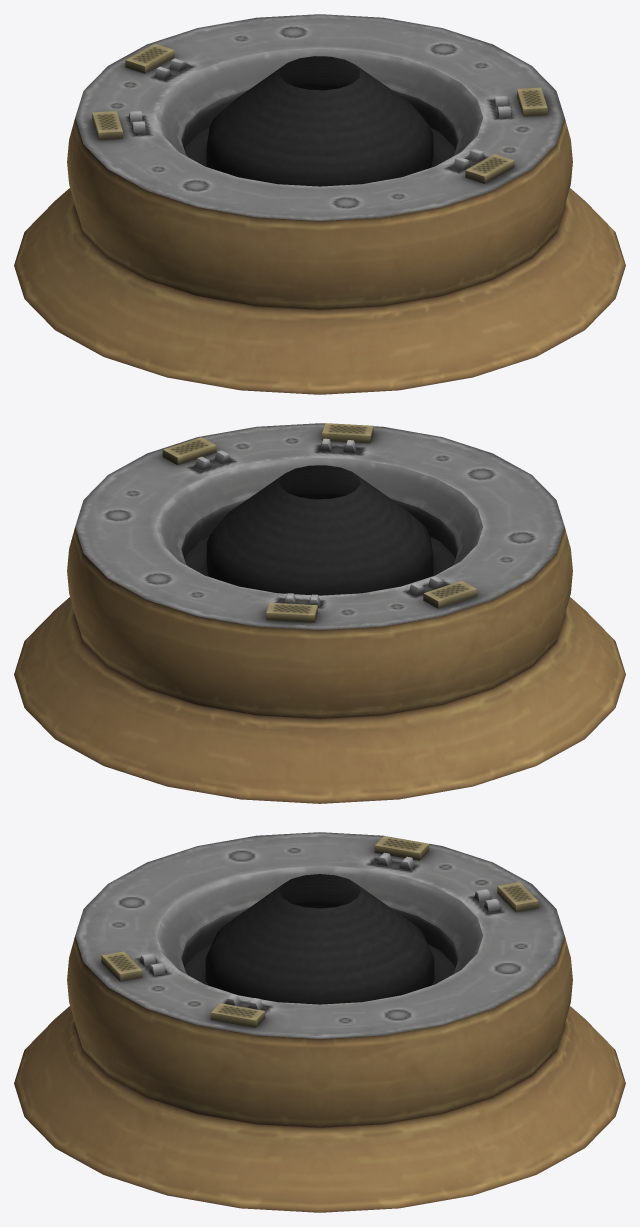
Rendered from octans_docking_port_s0p5_1_male.obj.
3 renders of one model, top to bottom at view 1: azimuth 30°, elevation 25°; view 2: azimuth 150°, elevation 25°; view 3: azimuth 270°, elevation 25°, orthographic.
Visible parts, largest first — view 1: mesh; view 2: mesh; view 3: mesh.
Boxes of the visible parts, x1,y1,x2,y2 form: mesh: (14, 14, 625, 394); mesh: (14, 423, 625, 803); mesh: (14, 832, 625, 1212).
Bounding box in the file's own units: 0.9375 × 0.325 × 0.9375.
